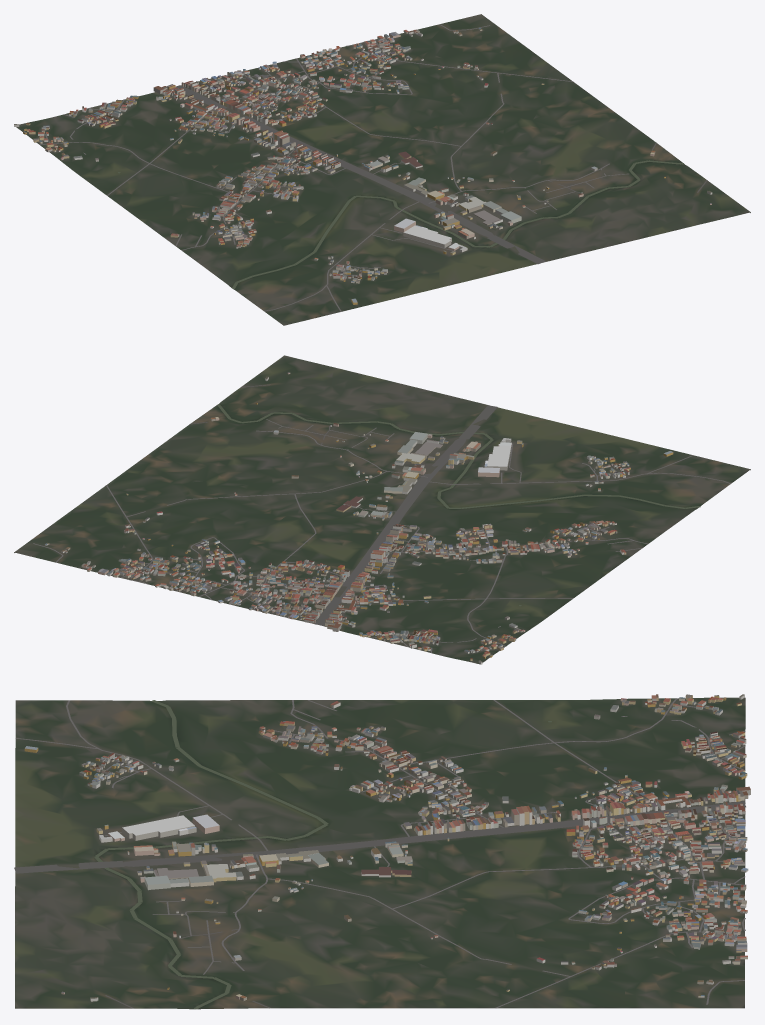
The picture shows the model from 3 angles, top to bottom: view 1: azimuth 30°, elevation 25°; view 2: azimuth 150°, elevation 25°; view 3: azimuth 270°, elevation 25°; orthographic projection. The views are drawn at different scales.
Visible parts, largest first — view 1: ground, buildings, roads, water; view 2: ground, buildings, roads, water; view 3: ground, buildings, roads, water.
Part boxes in pixels (left/top/right/bottom): ground: left=16, top=14, right=750, bottom=325; buildings: left=14, top=28, right=712, bottom=304; roads: left=39, top=24, right=707, bottom=311; water: left=118, top=160, right=683, bottom=288; ground: left=14, top=355, right=750, bottom=664; buildings: left=45, top=372, right=673, bottom=664; roads: left=33, top=384, right=730, bottom=652; water: left=216, top=404, right=700, bottom=606; ground: left=15, top=697, right=745, bottom=1009; buildings: left=24, top=694, right=750, bottom=1001; roads: left=14, top=698, right=745, bottom=1008; water: left=94, top=700, right=551, bottom=1009.
Bounding box in the file's own units: 1406 × 32.34 × 1415.
